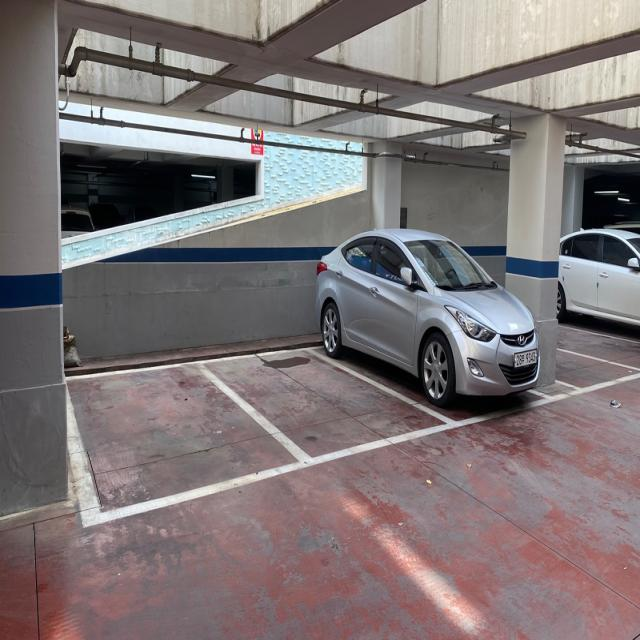empty: (60, 356, 320, 529), (191, 343, 462, 469)
occupied: (322, 228, 538, 392)
